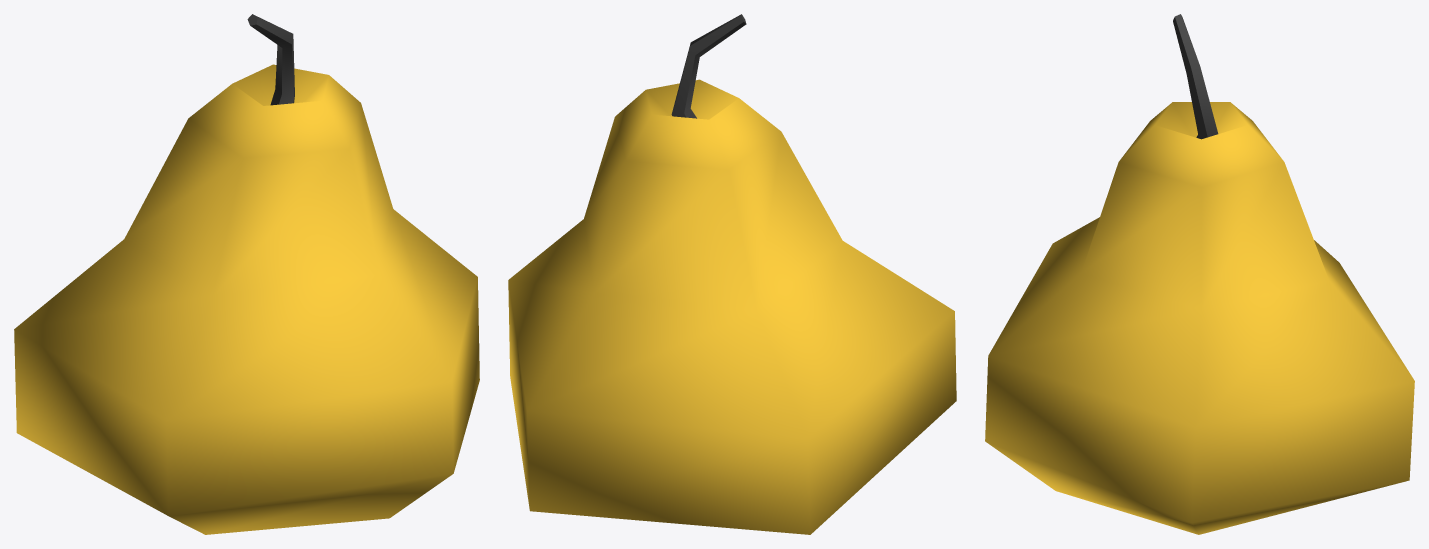
File: Pear_Yellow.fbx
The picture shows the model from 3 angles, left to right: view 1: azimuth 30°, elevation 25°; view 2: azimuth 150°, elevation 25°; view 3: azimuth 270°, elevation 25°; orthographic projection. The views are drawn at different scales.
Parts seen in each view (by area): view 1: Pear_Yellow; view 2: Pear_Yellow; view 3: Pear_Yellow.
Boxes of the visible parts, left/top/right/bottom form: Pear_Yellow: left=14, top=14, right=479, bottom=534; Pear_Yellow: left=508, top=14, right=956, bottom=534; Pear_Yellow: left=985, top=14, right=1414, bottom=534.
Bounding box in the file's own units: 21.95 × 27.89 × 22.45.
